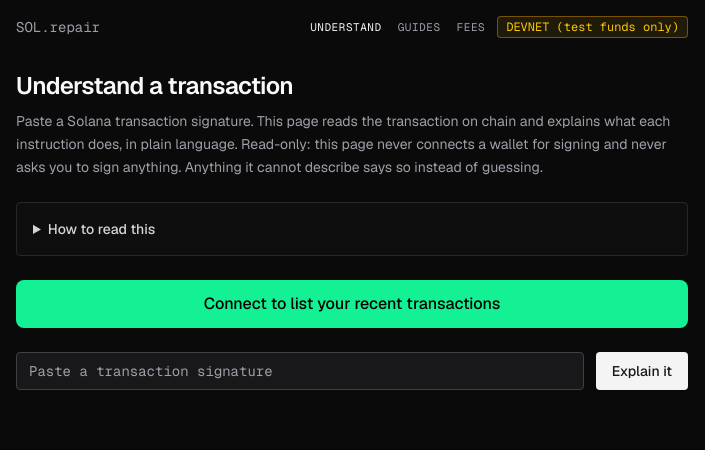
Test: understand page input validation › rejects input that is not a signature shape without fetching
Type "not-a-signature" into the field labelled "Paste a transaction signature" at coordinates (300, 371), box [16,352,584,390]
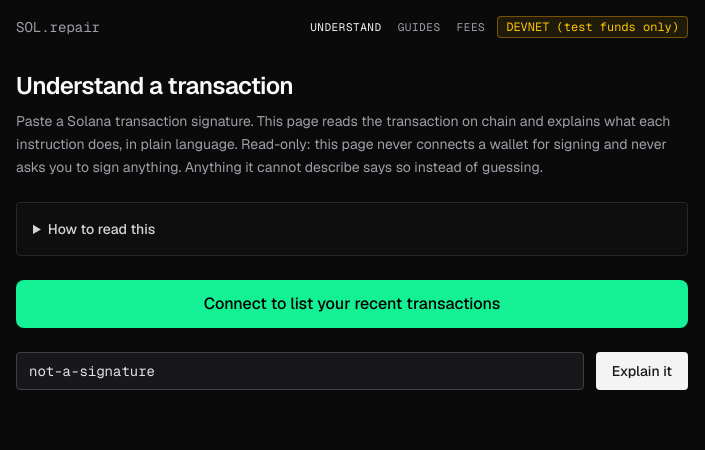
Click the button "Explain it" at coordinates (642, 371), box [596,352,688,390]
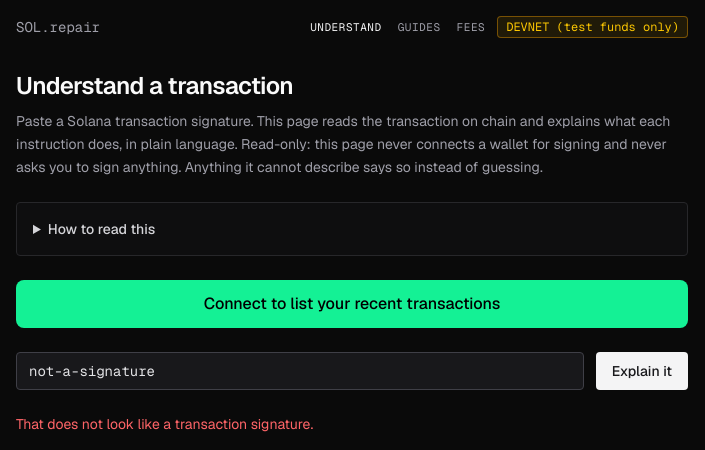
Expected: the text "That does not look like a transaction signature." is shown, [16,415,313,433]
